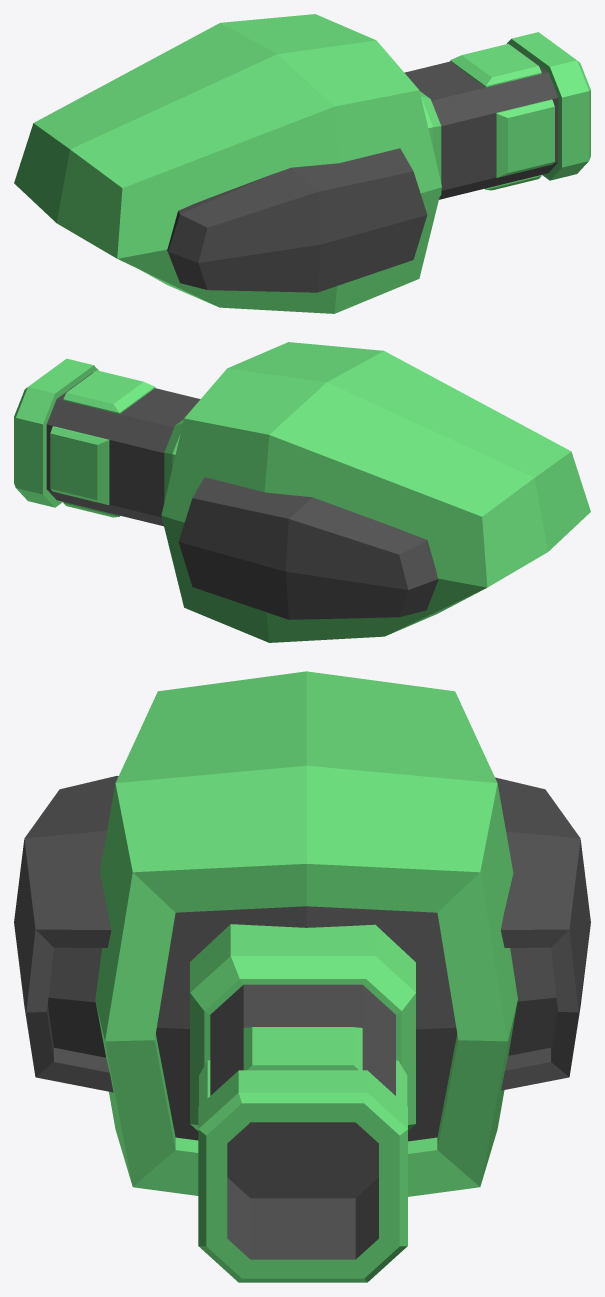
File: RocketBlock.fbx
The picture shows the model from 3 angles, top to bottom: view 1: azimuth 30°, elevation 25°; view 2: azimuth 150°, elevation 25°; view 3: azimuth 270°, elevation 25°; orthographic projection. The views are drawn at different scales.
Visible parts, largest first — view 1: Cannon; view 2: Cannon; view 3: Cannon.
Boxes of the visible parts, box(x1,y1,x2,y2) form: Cannon: box(14, 14, 590, 313); Cannon: box(14, 342, 590, 642); Cannon: box(14, 671, 590, 1282).
Bounding box in the file's own units: 721 × 312 × 427.
